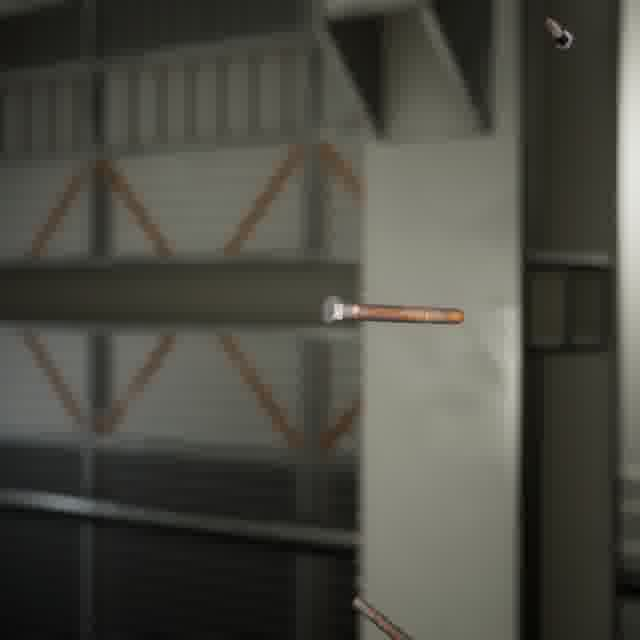bolt: (317, 291, 468, 329), (348, 592, 418, 640), (541, 14, 578, 56)
